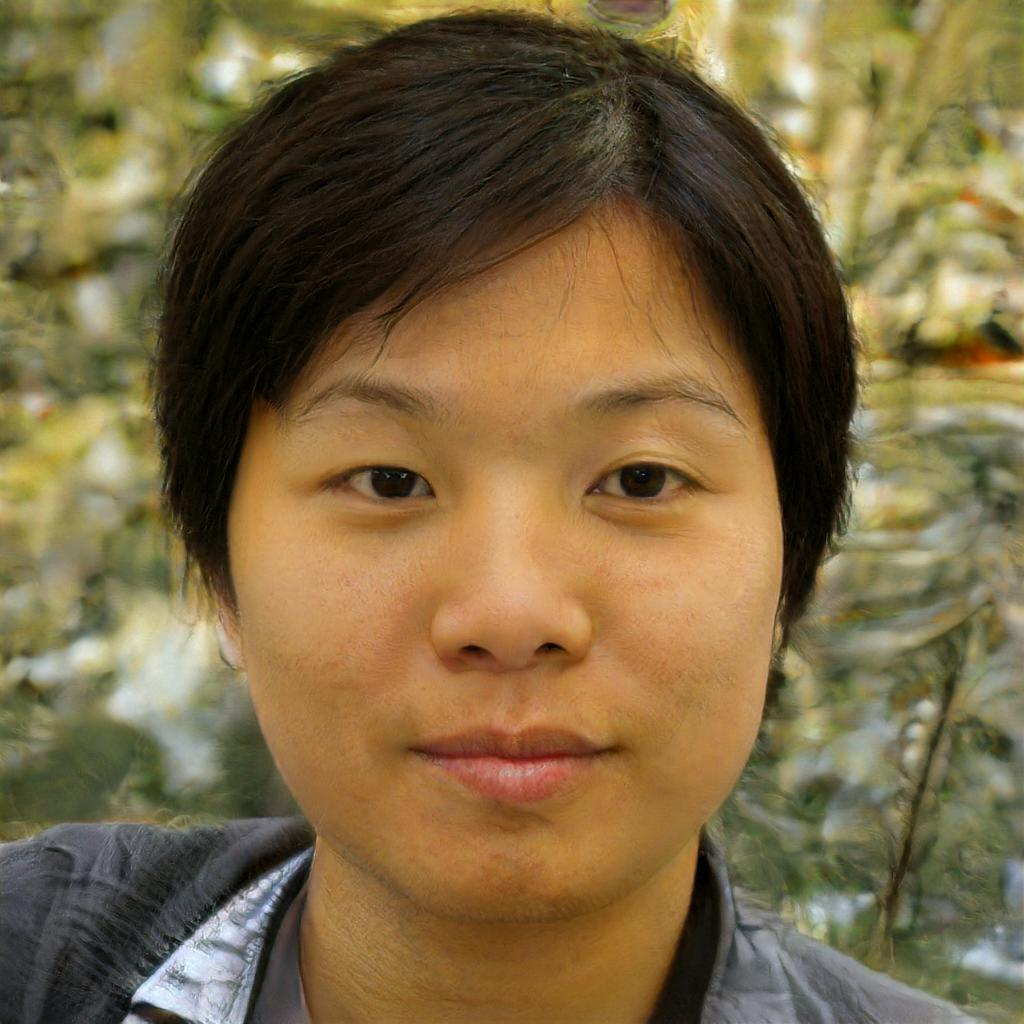face: (227, 210, 785, 923)
